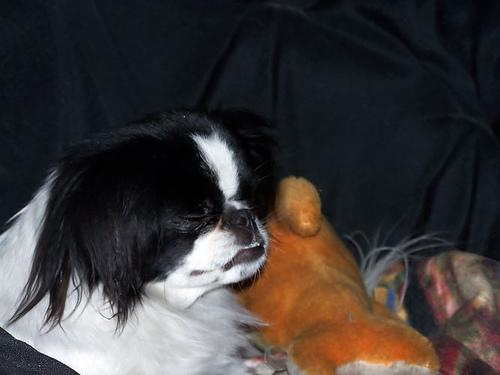dog-japanese_chin: (76, 111, 266, 284)
